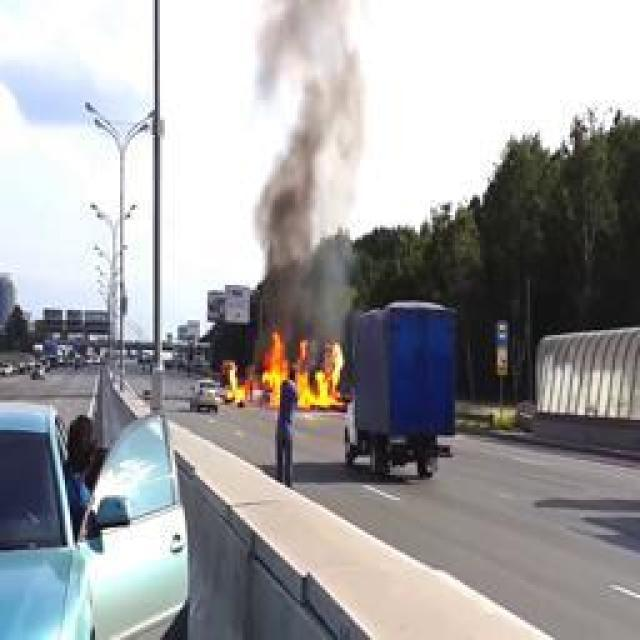Fire: (227, 331, 345, 409)
